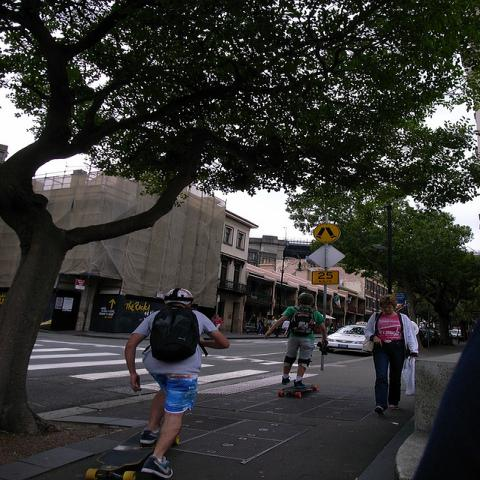car: (327, 322, 372, 353), (424, 331, 440, 345), (448, 328, 464, 340)
